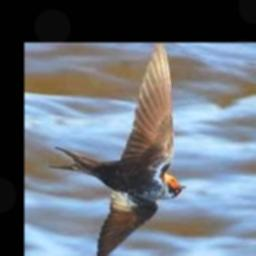Swallow: (50, 43, 186, 256)
